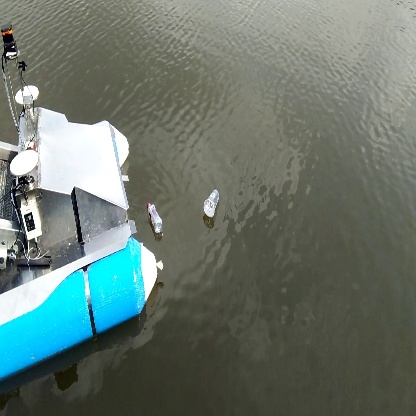bottle: (143, 200, 166, 236), (199, 186, 223, 219)
